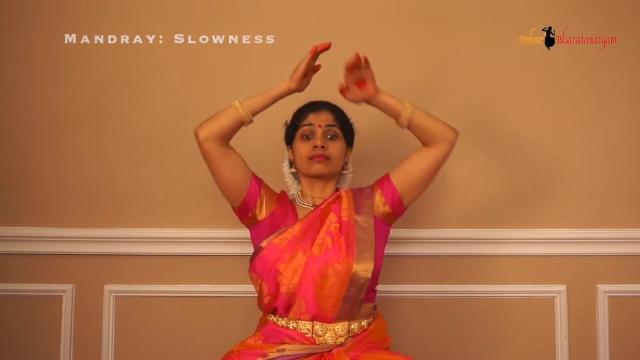sarpsheesh: (285, 32, 335, 104)
